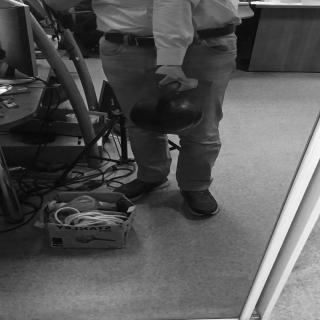kettlebell: (131, 75, 209, 136)
